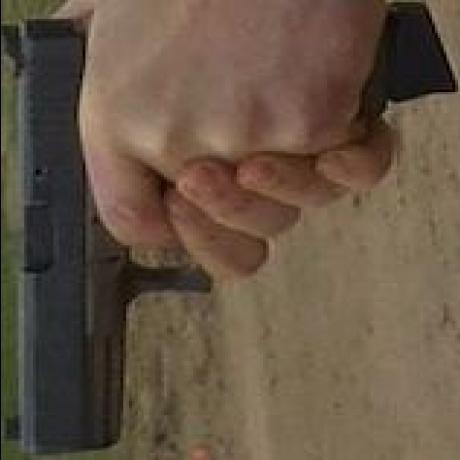1: (47, 0, 389, 276)
weapon: (0, 11, 206, 456)
